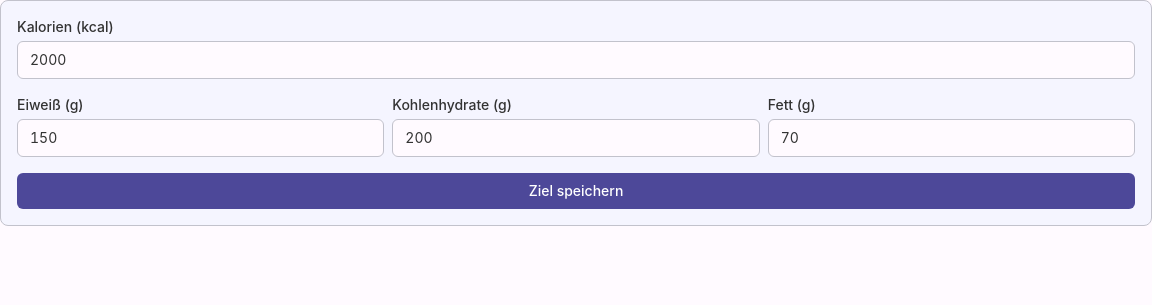
Test case: NutritionGoalForm › PUTs the goal and shows a saved confirmation
Replace the text in the field labelled "Kalorien (kcal)" with "1800": x=576, y=60 [17, 41, 1135, 79]
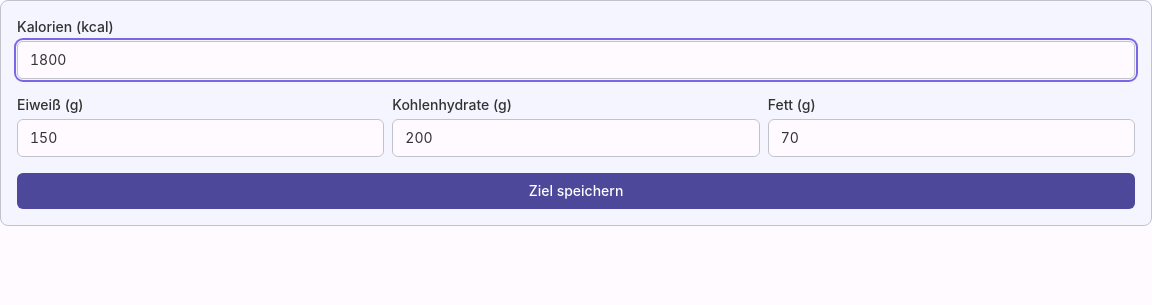
Click the button "Ziel speichern": x=576, y=191 [17, 173, 1135, 209]
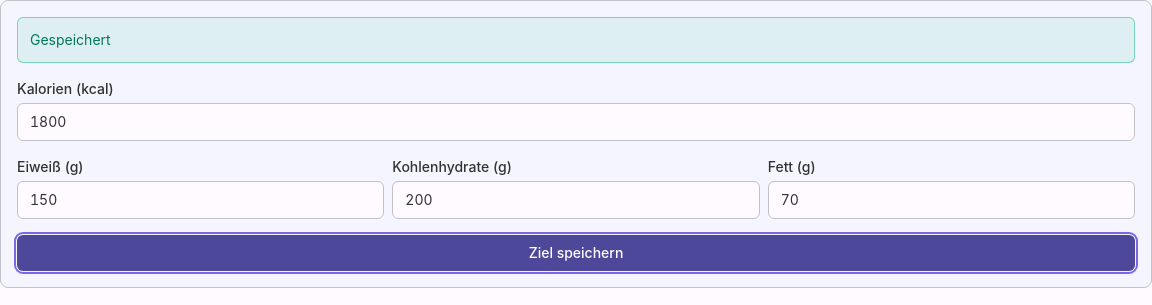
Expected: the text "Gespeichert" is shown, [30, 31, 111, 48]
